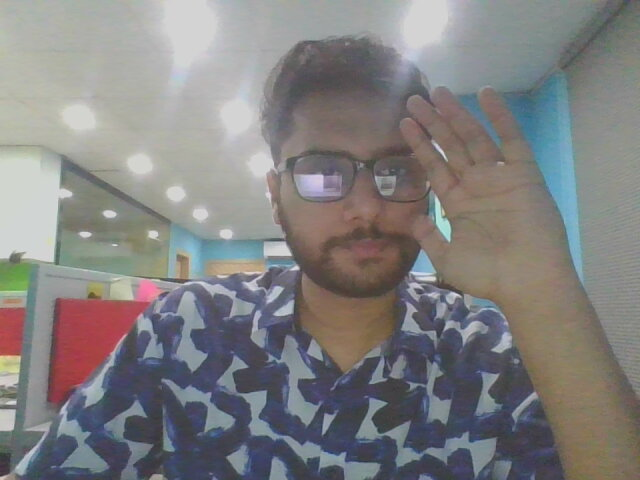hello: (390, 70, 589, 318)
